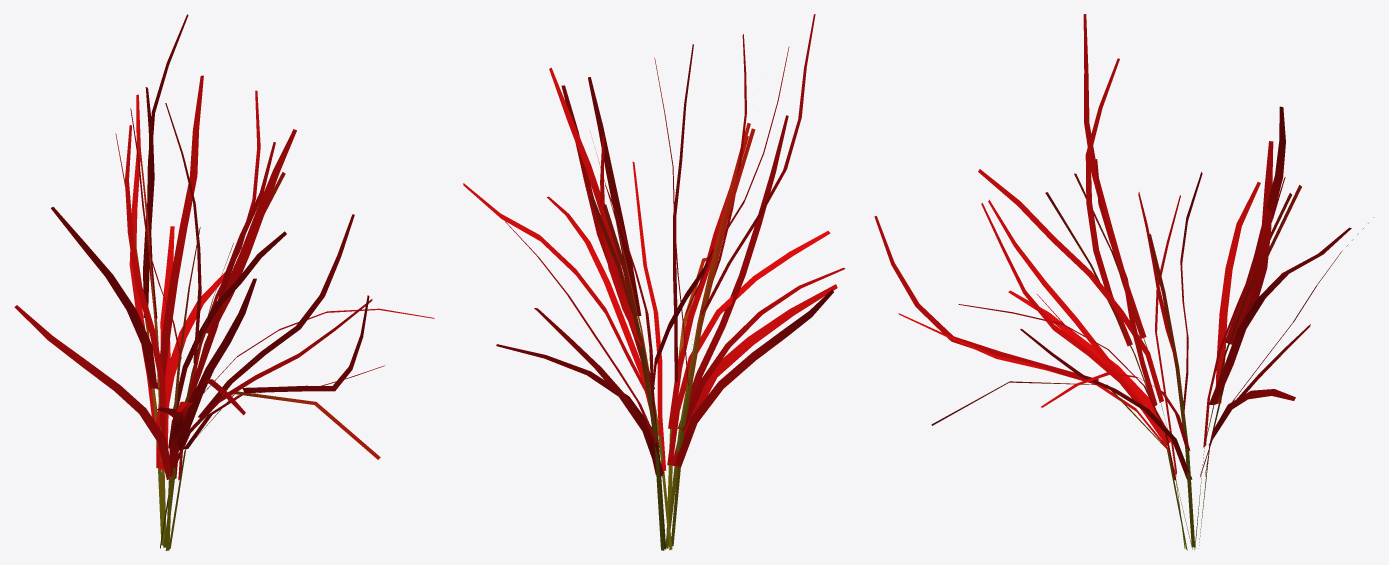
File: Var17_LOD1.fbx
3 views of the same model, side by side, from view 1: azimuth 30°, elevation 25°; view 2: azimuth 150°, elevation 25°; view 3: azimuth 270°, elevation 25° (orthographic). The views are drawn at different scales.
Visible parts, largest first — view 1: _cae1_Var17_LOD1; view 2: _cae1_Var17_LOD1; view 3: _cae1_Var17_LOD1.
Part boxes in pixels (x1=…): _cae1_Var17_LOD1: x1=14, y1=14, x2=434, y2=550; _cae1_Var17_LOD1: x1=463, y1=14, x2=845, y2=550; _cae1_Var17_LOD1: x1=874, y1=14, x2=1373, y2=550.
Size of the model in its own units: 10.99 by 15.04 by 13.84.
